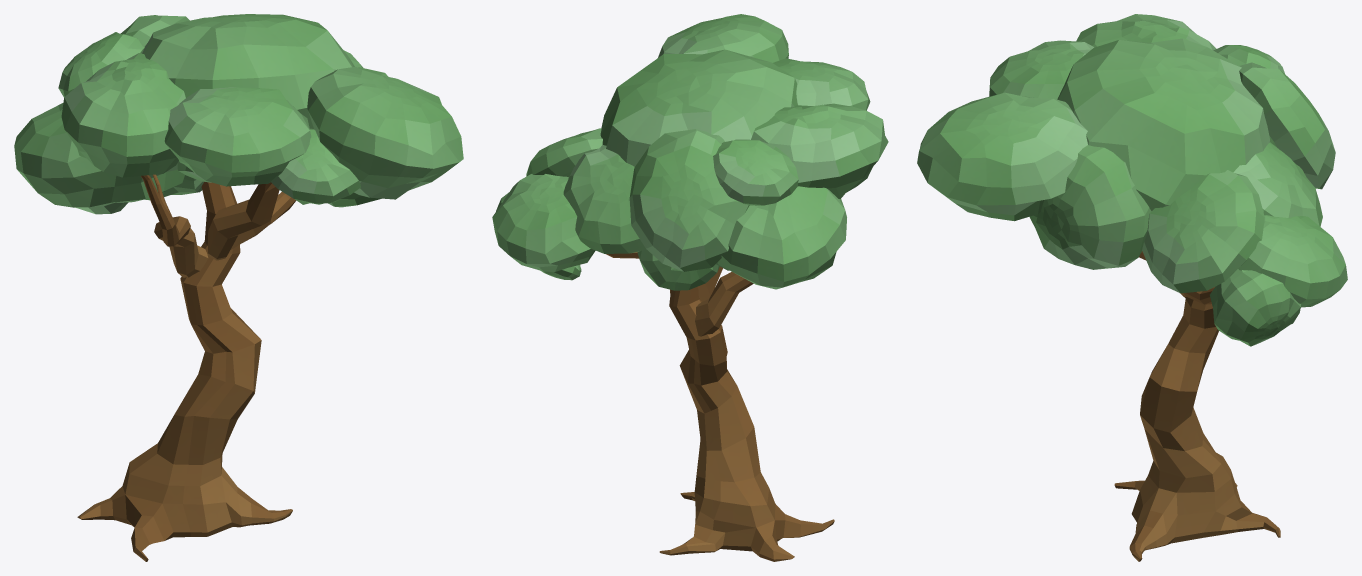
The model's file is tree_1_a.glb.
3 renders of one model, left to right at view 1: azimuth 30°, elevation 25°; view 2: azimuth 150°, elevation 25°; view 3: azimuth 270°, elevation 25°, orthographic. The views are drawn at different scales.
Visible parts, largest first — view 1: crown_1_a, trunk_1_a; view 2: crown_1_a, trunk_1_a; view 3: crown_1_a, trunk_1_a.
Boxes of the visible parts, x1,y1,x2,y2 form: crown_1_a: (14,14,463,214); trunk_1_a: (77,174,296,561); crown_1_a: (492,14,888,290); trunk_1_a: (606,252,834,561); crown_1_a: (917,14,1347,346); trunk_1_a: (1114,251,1280,561).
Size of the model in its own units: 4.06 by 5.28 by 4.24.
1 material, 1 textured.
